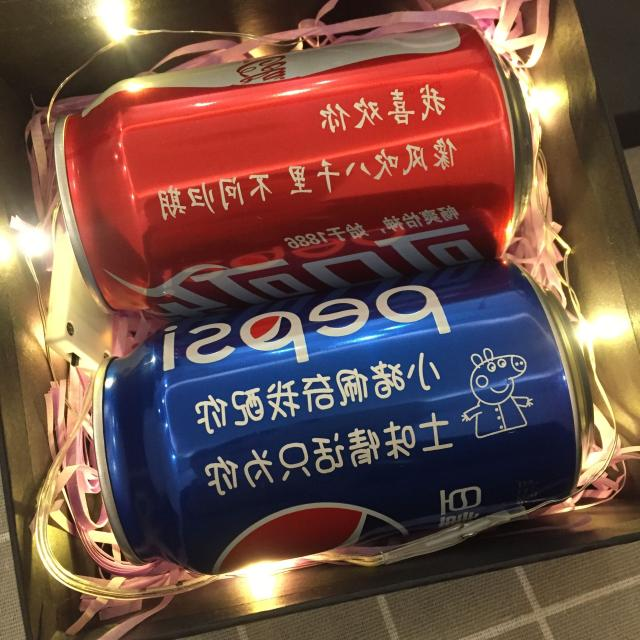metal: (94, 260, 592, 574), (55, 25, 532, 316)
